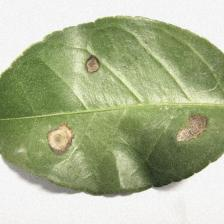canker: (33, 46, 211, 160)
